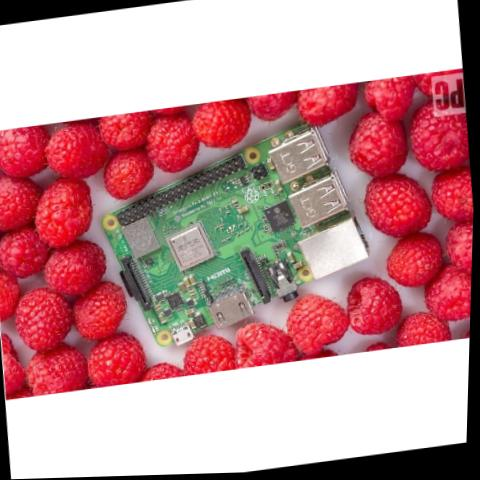Raspberry-Pi-3-Model-B-: (87, 112, 386, 357)
